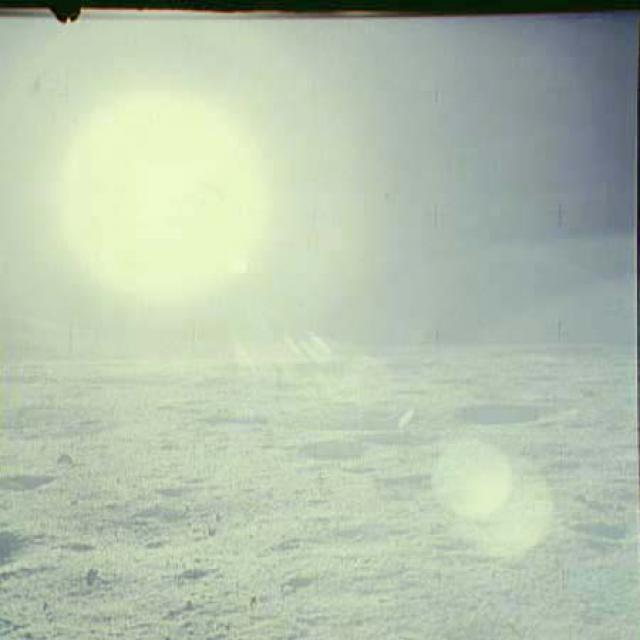crater: (440, 384, 600, 441), (0, 394, 106, 452), (560, 500, 639, 556), (271, 424, 369, 466), (0, 513, 47, 593), (0, 456, 76, 500)
